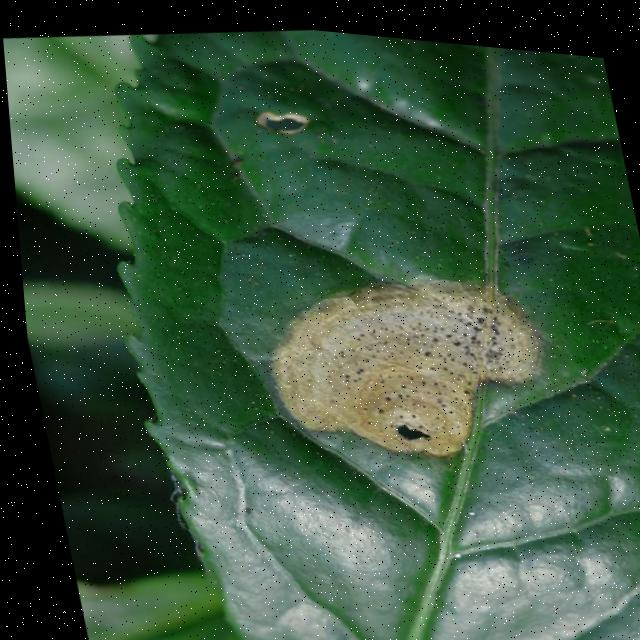Tea cloud leaf blight: (235, 232, 577, 472)
